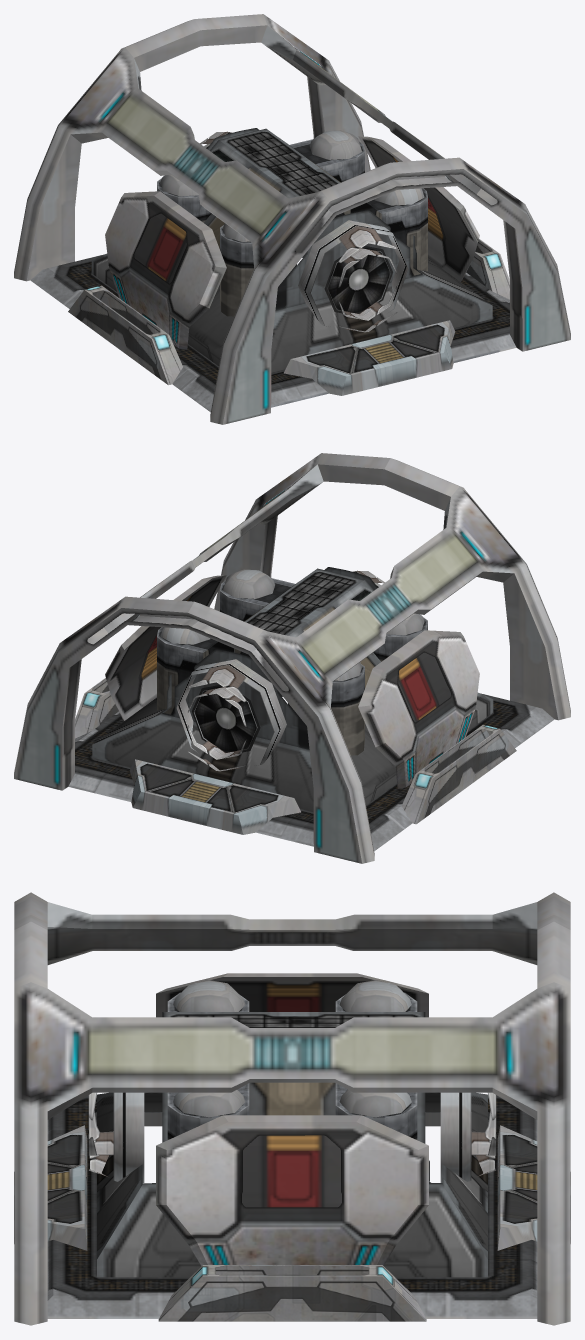
The model's file is doodad_aegis_barracks.fbx.
3 renders of one model, top to bottom at view 1: azimuth 30°, elevation 25°; view 2: azimuth 150°, elevation 25°; view 3: azimuth 270°, elevation 25°, orthographic. The views are drawn at different scales.
Visible parts, largest first — view 1: body; view 2: body; view 3: body.
Part boxes in pixels (x1=…): body: x1=14, y1=14, x2=570, y2=424; body: x1=14, y1=453, x2=570, y2=863; body: x1=14, y1=892, x2=570, y2=1325.
Size of the model in its own units: 3.99 by 2.27 by 4.
Materials: 1 (1 with a texture image).
